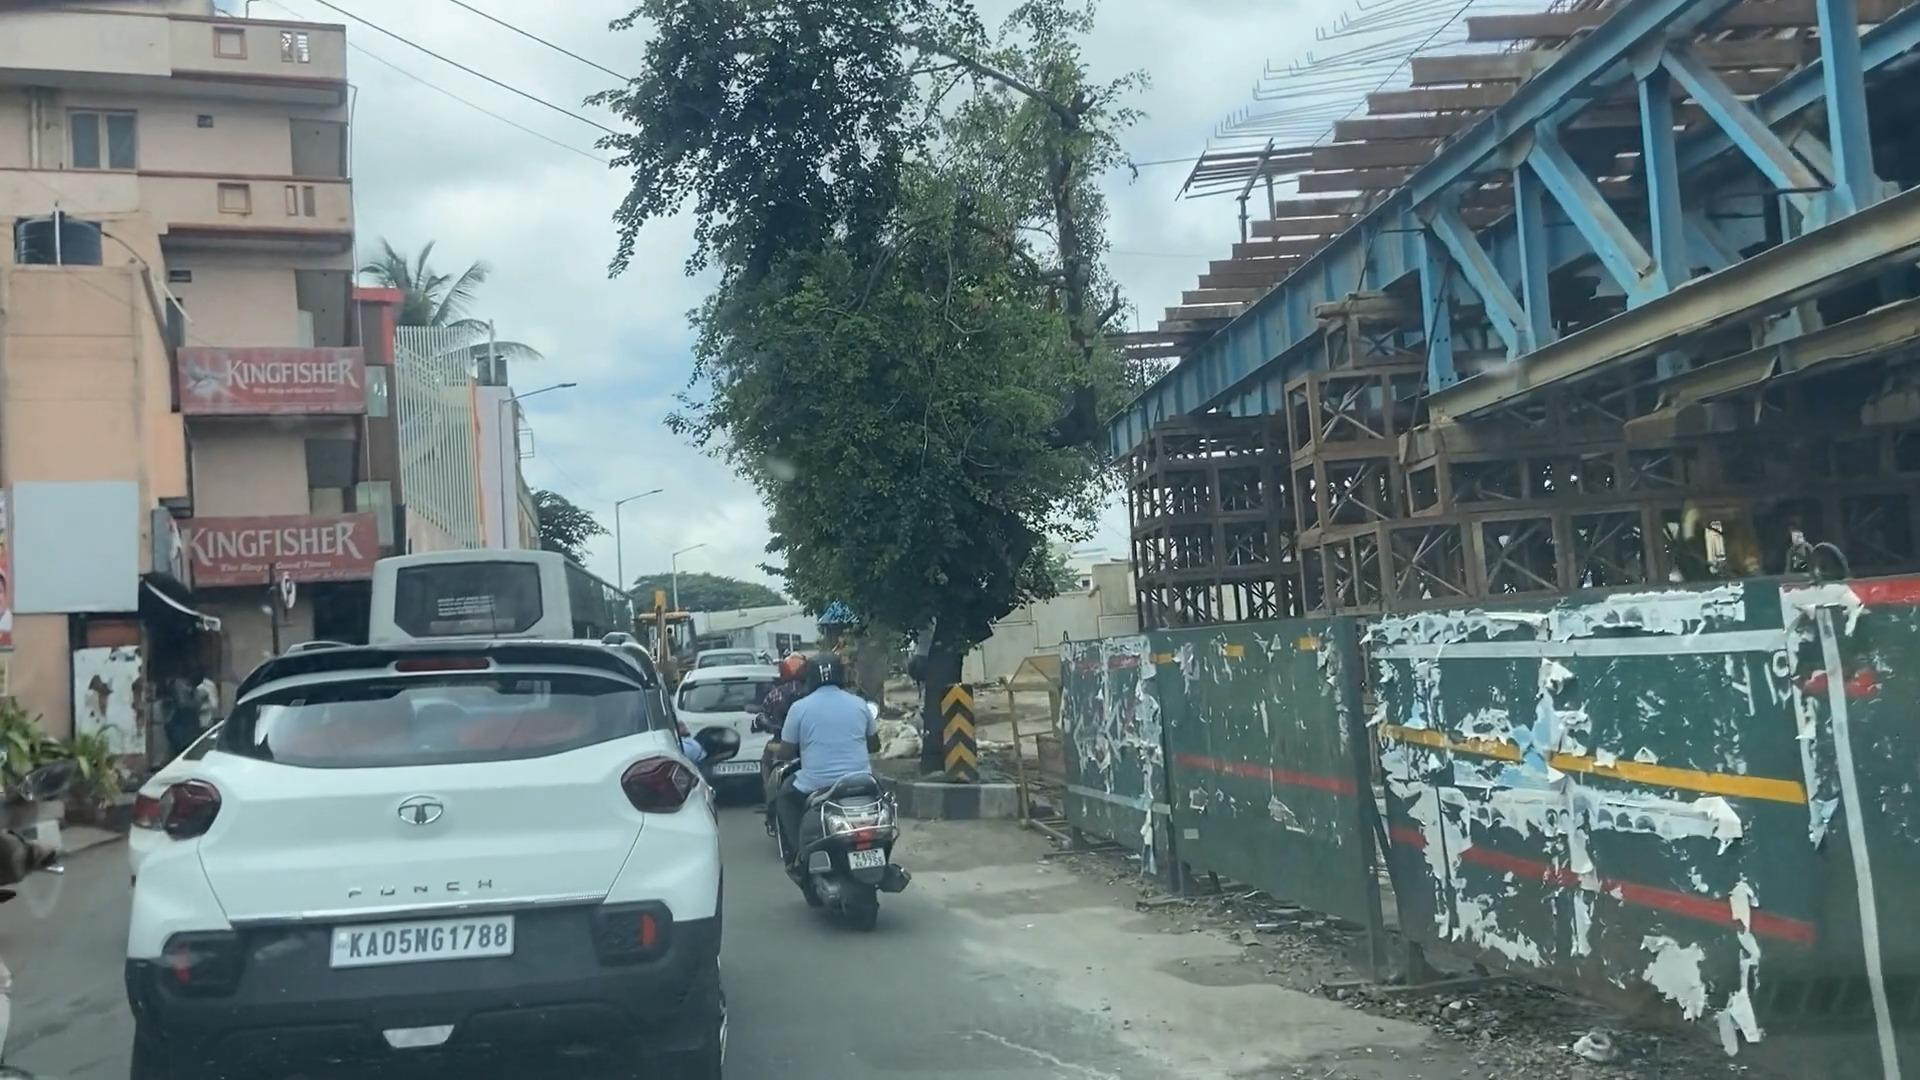LMV: (136, 690, 690, 1034), (782, 650, 890, 906)
